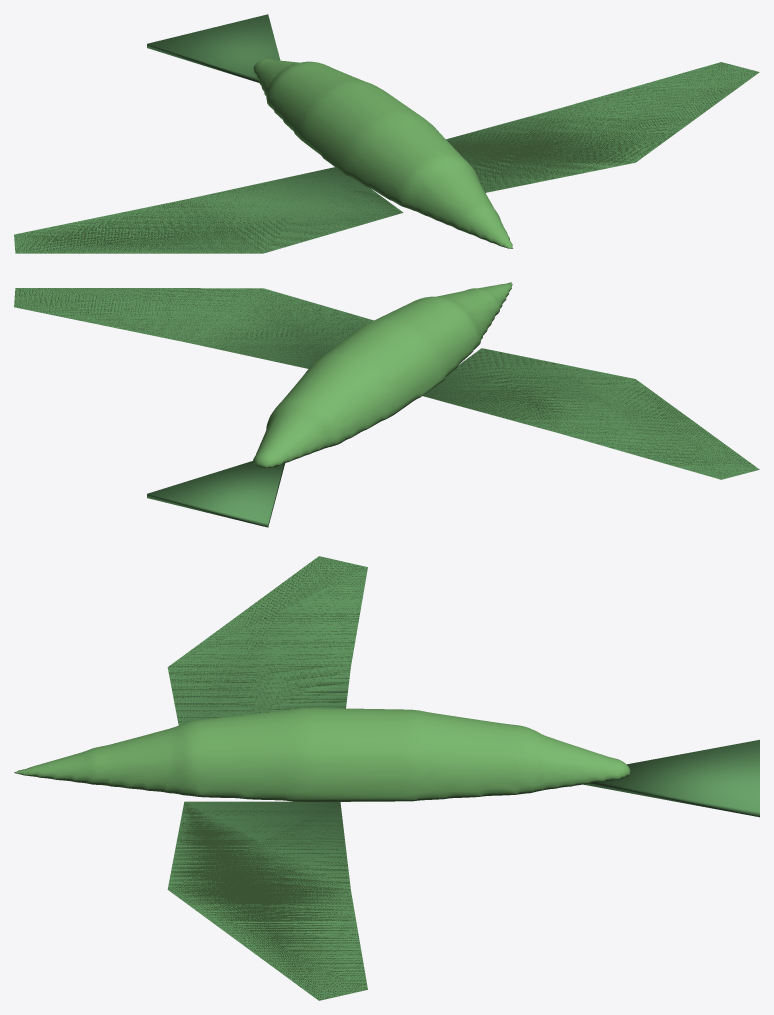
File: papagei.glb
3 views of the same model, one above another, from view 1: azimuth 30°, elevation 25°; view 2: azimuth 150°, elevation 25°; view 3: azimuth 270°, elevation 25° (orthographic). The views are drawn at different scales.
Visible parts, largest first — view 1: lack; view 2: lack; view 3: lack.
Boxes of the visible parts, left/top/right/bottom form: lack: left=14, top=14, right=759, bottom=253; lack: left=14, top=282, right=759, bottom=527; lack: left=14, top=556, right=759, bottom=1000.
Size of the model in its own units: 0.55 by 0.0383 by 0.3898.
